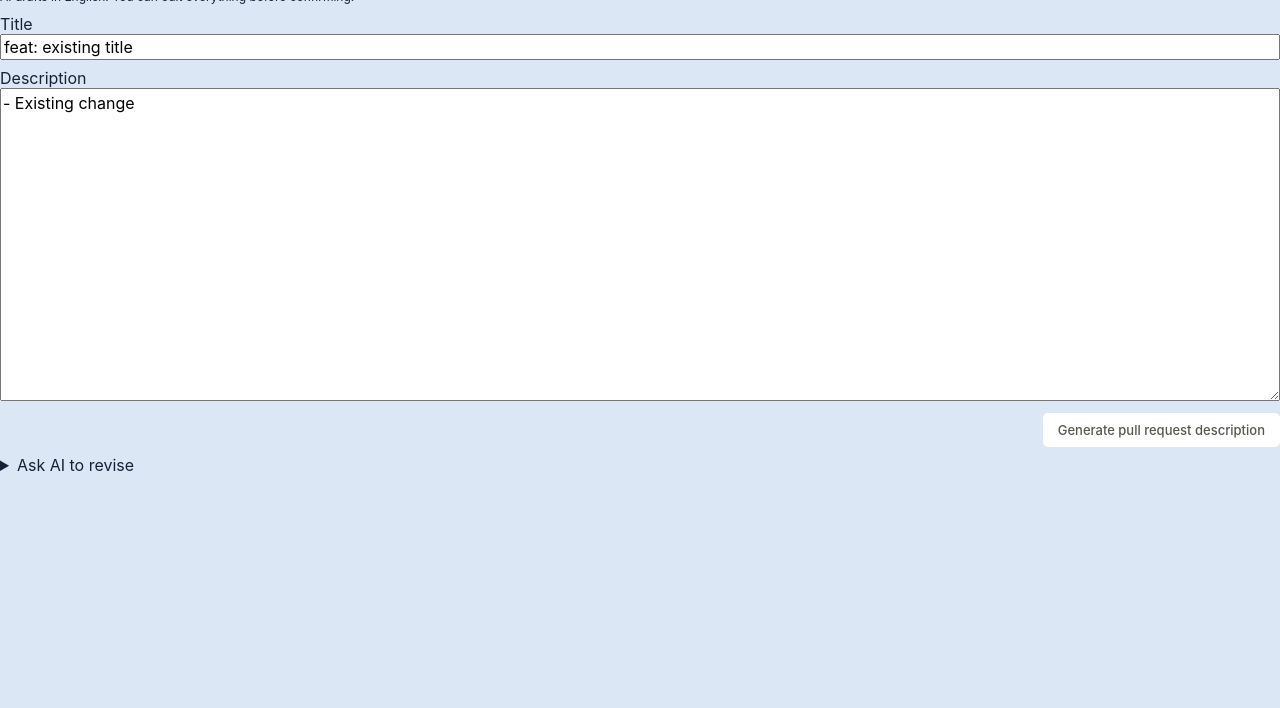
Test: DeliveryDraftEditor › pr revision sends only text fields from a reused delivery draft, including retries
Check: the button "Generate pull request description" is enabled, box [1043,413,1279,447]
Click the heading "Ask AI to revise" at (76, 465), box [17,455,134,475]
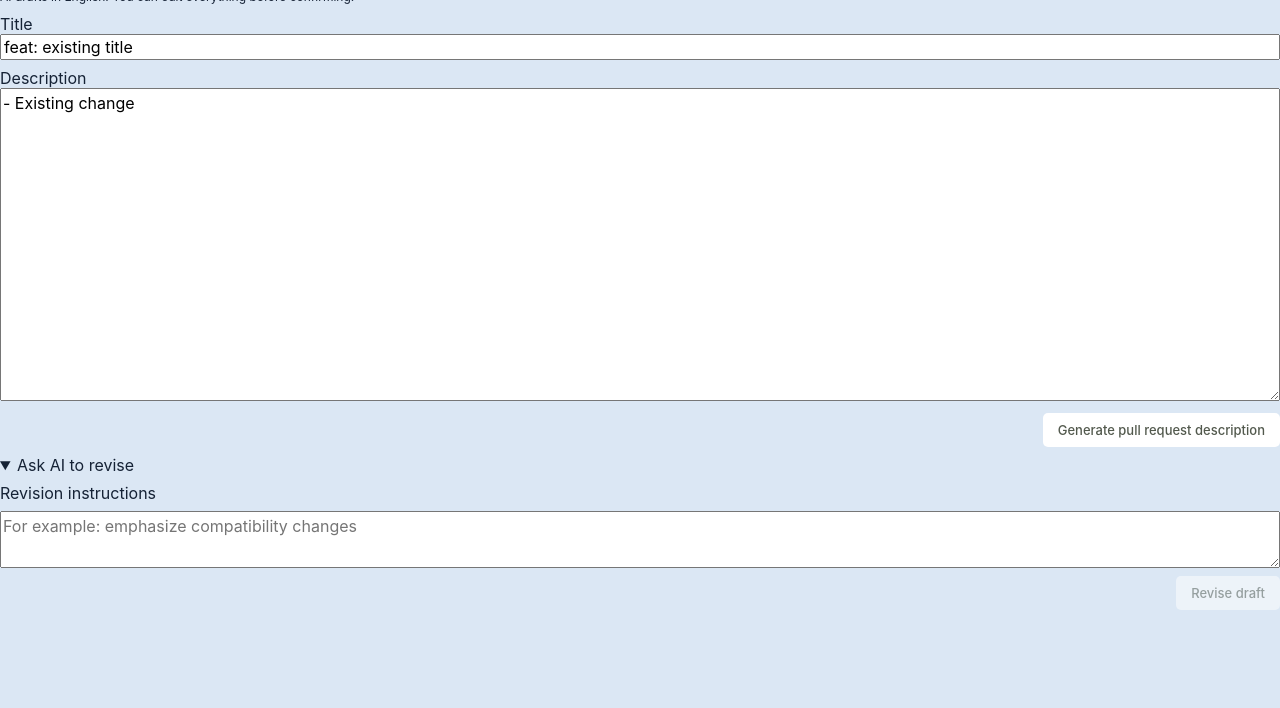
Type "Use one short bullet" into the text box labelled "Revision instructions" at (640, 540), box [0,511,1279,568]
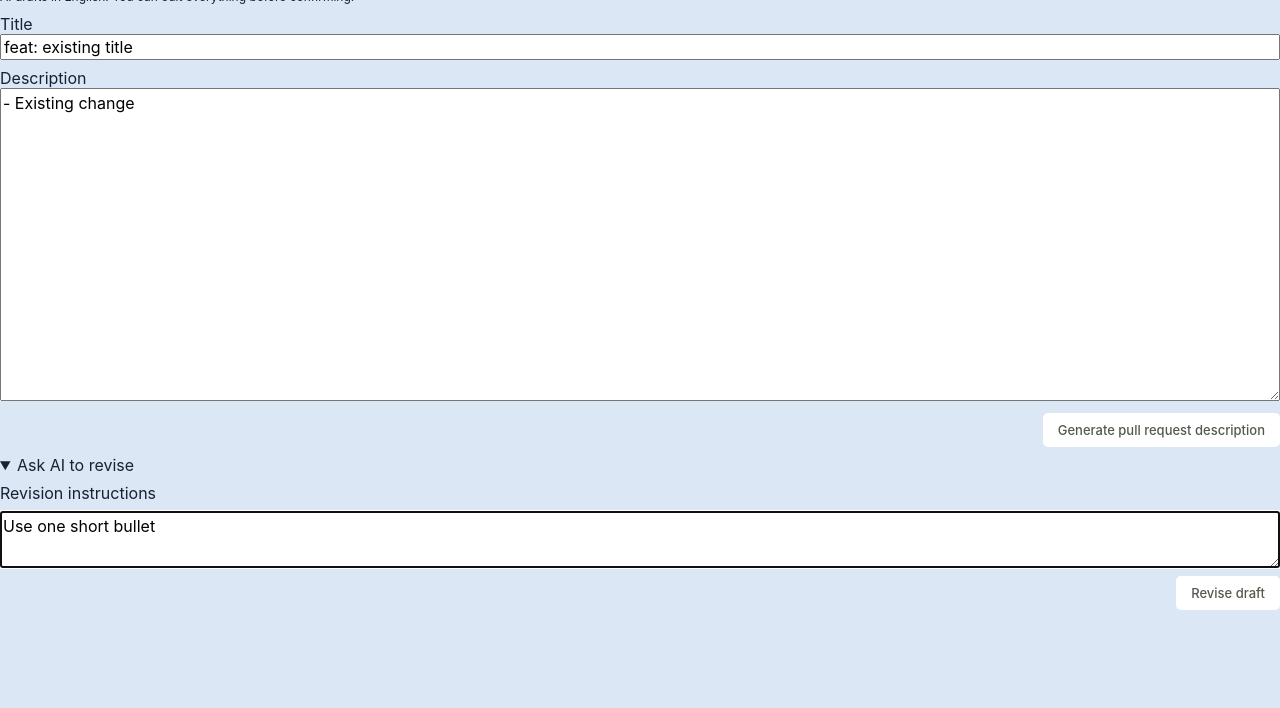
Click the button "Revise draft" at (1228, 593), box [1176,576,1279,610]
(page scrolled)
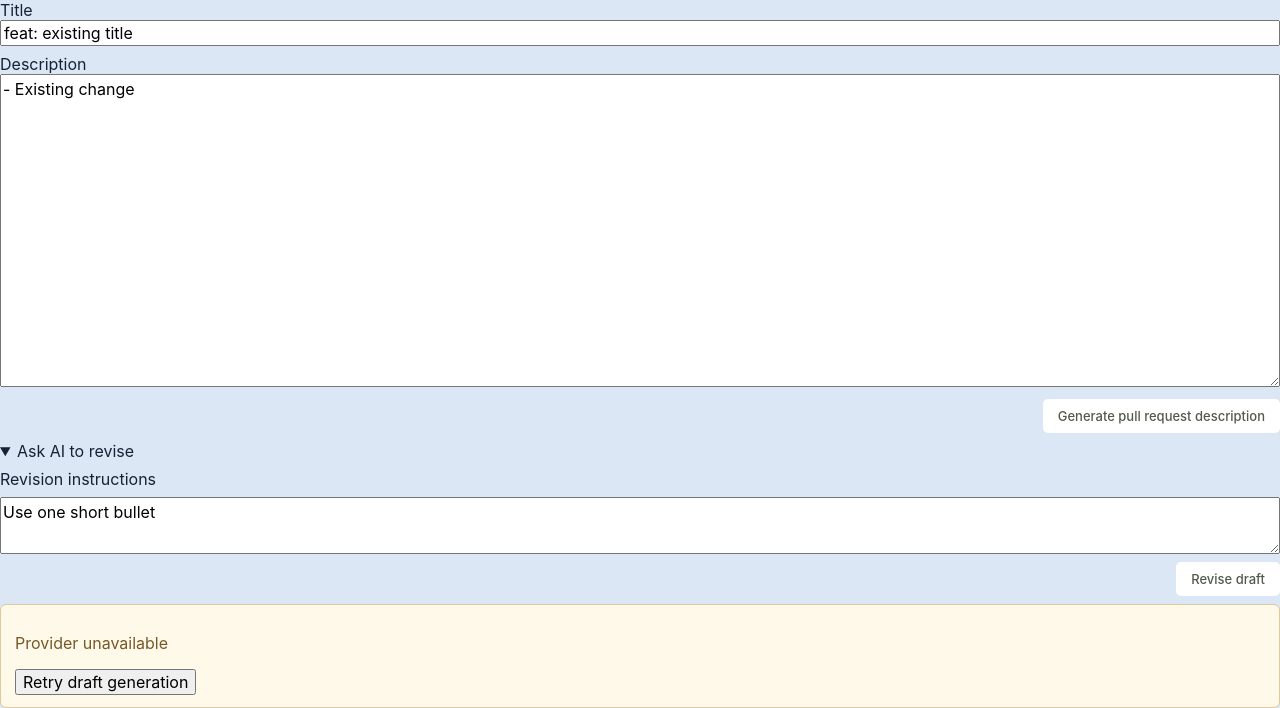
Check: the text "Provider unavailable" is shown, box [15,633,168,653]
Click the button "Retry draft generation" at (106, 682), box [15,669,196,695]
(page scrolled)
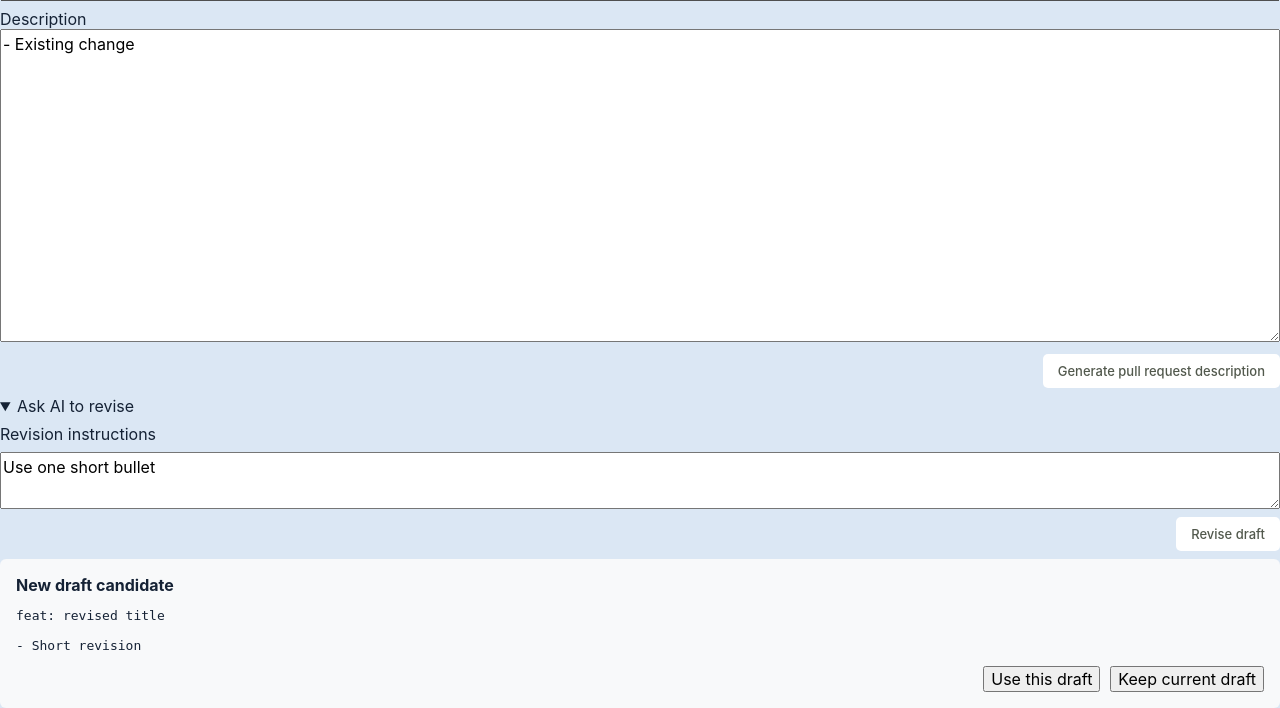
Check: the element "New draft candidate" is shown, box [0,559,1279,707]
Click the button "Use this draft" at (1042, 679), box [983,666,1100,692]
(page scrolled)
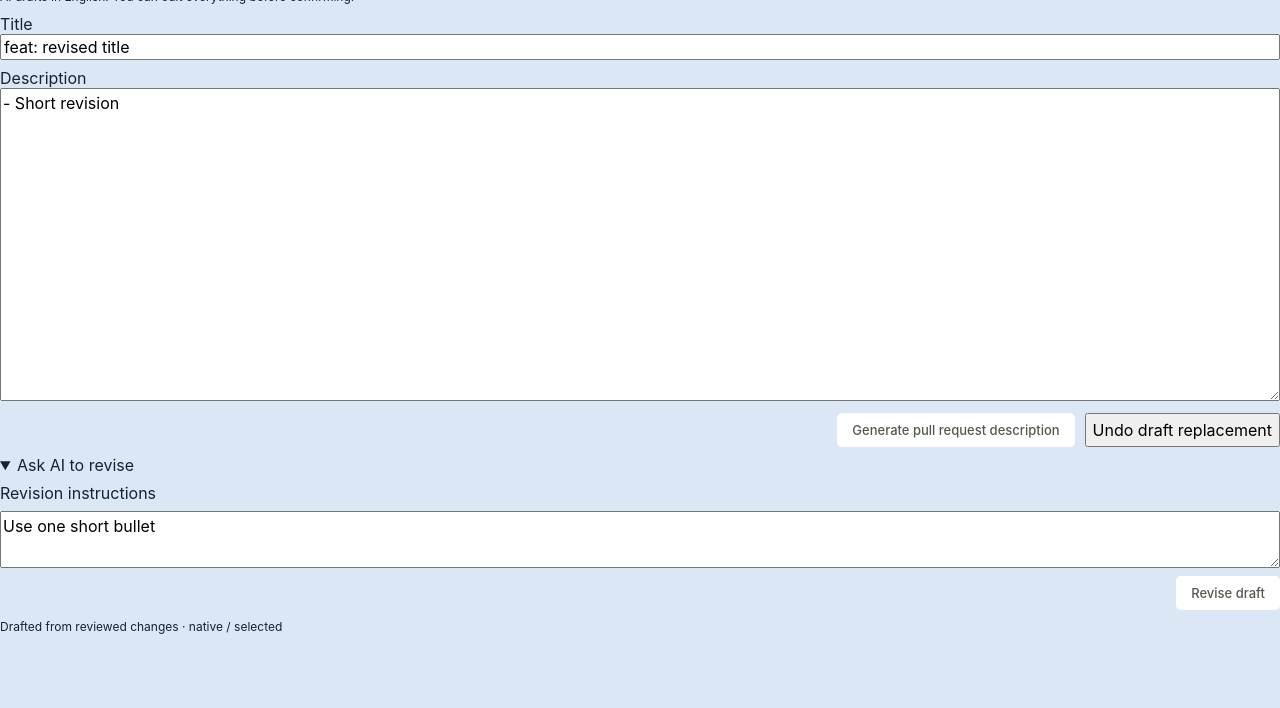
Check: the field labelled "Title" holds "feat: revised title", box [0,34,1279,60]
